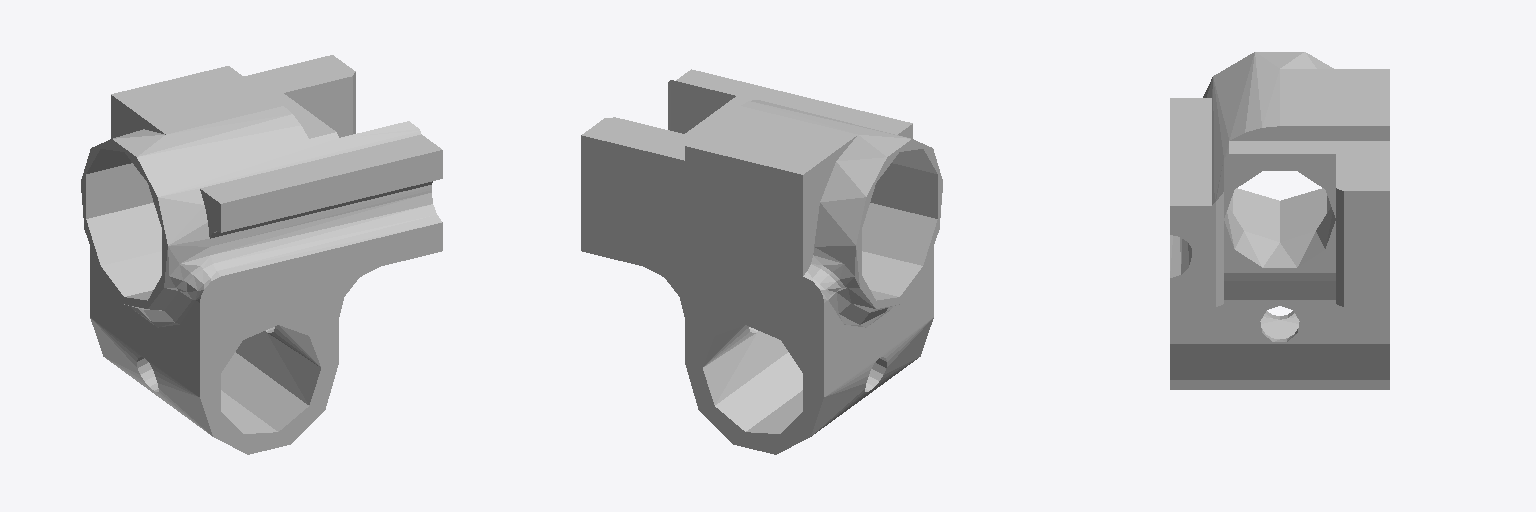
The model's file is 411. Головка штока заднего хода.obj.
3 views of the same model, side by side, from view 1: azimuth 30°, elevation 25°; view 2: azimuth 150°, elevation 25°; view 3: azimuth 270°, elevation 25° (orthographic).
Parts seen in each view (by area): view 1: Твердое тело2; view 2: Твердое тело2; view 3: Твердое тело2.
Boxes of the visible parts, <box> form: Твердое тело2: <box>81,55,442,454</box>; Твердое тело2: <box>581,69,942,454</box>; Твердое тело2: <box>1170,52,1389,389</box>.
Size of the model in its own units: 38 by 39.51 by 27.5.